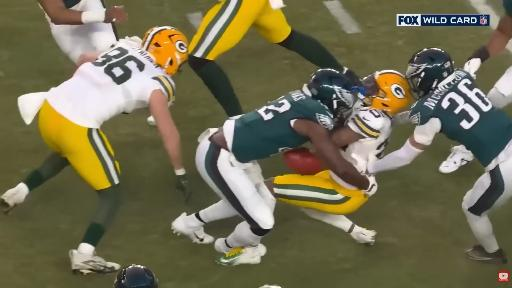Helmet: (305, 69, 359, 114), (406, 48, 454, 97), (142, 27, 188, 75), (362, 70, 411, 115), (114, 265, 158, 287)
Jersey: (47, 43, 174, 128), (410, 70, 511, 166), (231, 91, 333, 162), (340, 107, 392, 165), (341, 107, 392, 164), (63, 0, 81, 8), (503, 0, 511, 15)
Player: (0, 27, 187, 274), (172, 69, 377, 265), (368, 48, 511, 263), (189, 0, 346, 117), (266, 171, 376, 244), (38, 0, 127, 63), (464, 0, 511, 78), (113, 265, 158, 287)
